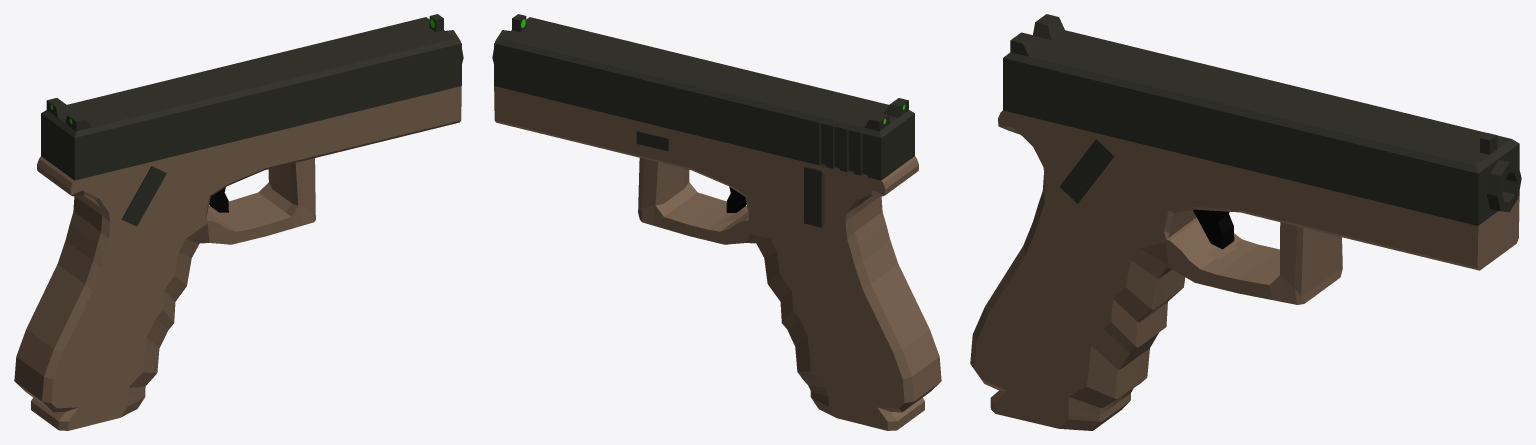
The model's file is OkayGlock17.fbx.
3 views of the same model, side by side, from view 1: azimuth 30°, elevation 25°; view 2: azimuth 150°, elevation 25°; view 3: azimuth 330°, elevation 25° (orthographic). The views are drawn at different scales.
Visible parts, largest first — view 1: Cube, Slide, Slide.001; view 2: Cube, Slide, Slide.001; view 3: Cube, Slide, Slide.001, Trigger.
Part boxes in pixels (x1,y1,x2,y2): Cube: (14,30,463,430); Slide: (41,17,461,180); Slide.001: (46,14,443,131); Cube: (492,30,941,430); Slide: (494,17,914,180); Slide.001: (512,14,908,131); Cube: (970,110,1521,430); Slide: (1003,30,1519,225); Slide.001: (1010,14,1497,154); Trigger: (1193,209,1234,249).
Size of the model in its own units: 504 by 348 by 74.13.
